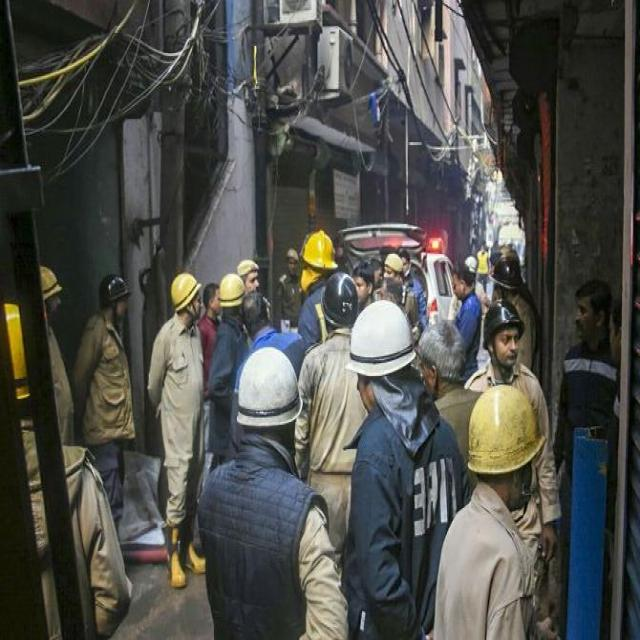Safety-Helmet: (466, 379, 546, 476), (346, 300, 417, 379), (235, 346, 302, 429), (320, 273, 360, 324), (29, 261, 65, 307), (168, 268, 204, 314), (300, 230, 338, 272), (94, 270, 132, 310), (484, 300, 524, 336), (216, 270, 246, 310), (384, 251, 404, 276)
